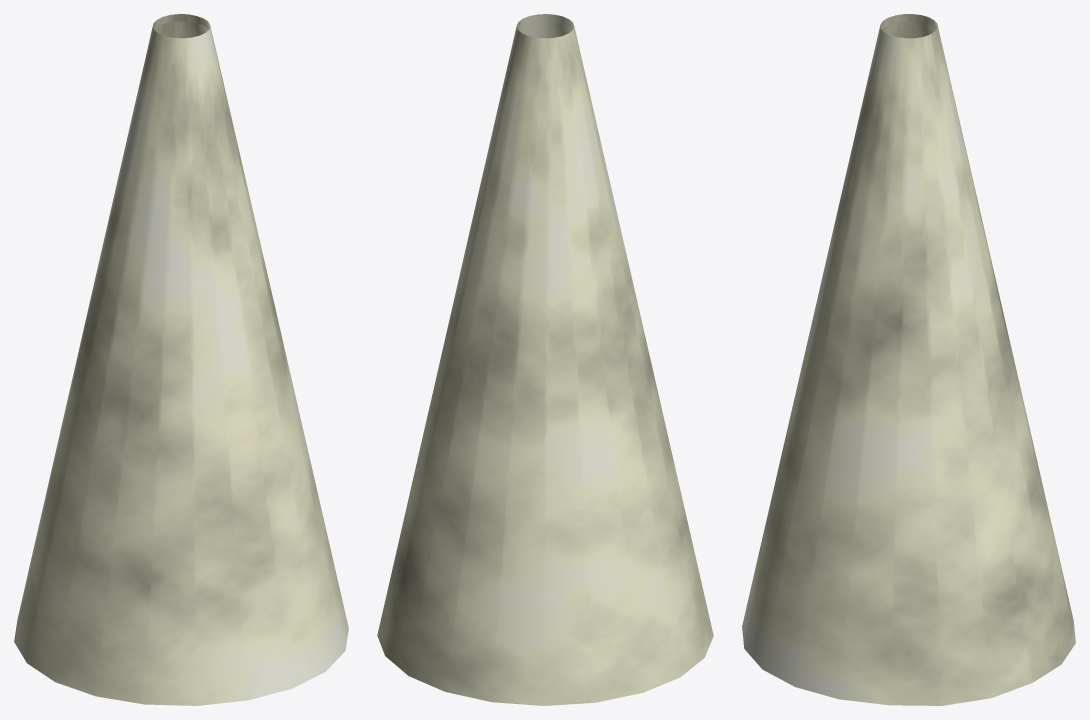
Rendered from lightbeam.fbx.
3 renders of one model, left to right at view 1: azimuth 30°, elevation 25°; view 2: azimuth 150°, elevation 25°; view 3: azimuth 270°, elevation 25°, orthographic.
Parts seen in each view (by area): view 1: Lightbeam1, lightbeam2; view 2: Lightbeam1, lightbeam2; view 3: Lightbeam1, lightbeam2.
Part boxes in pixels (x1,y1,x2,y2): Lightbeam1: [14, 14, 348, 705]; lightbeam2: [155, 21, 208, 38]; Lightbeam1: [377, 14, 713, 705]; lightbeam2: [518, 21, 571, 38]; Lightbeam1: [742, 14, 1075, 705]; lightbeam2: [882, 21, 935, 38].
Size of the model in its own units: 199 by 401 by 199.
1 material, 1 textured.
